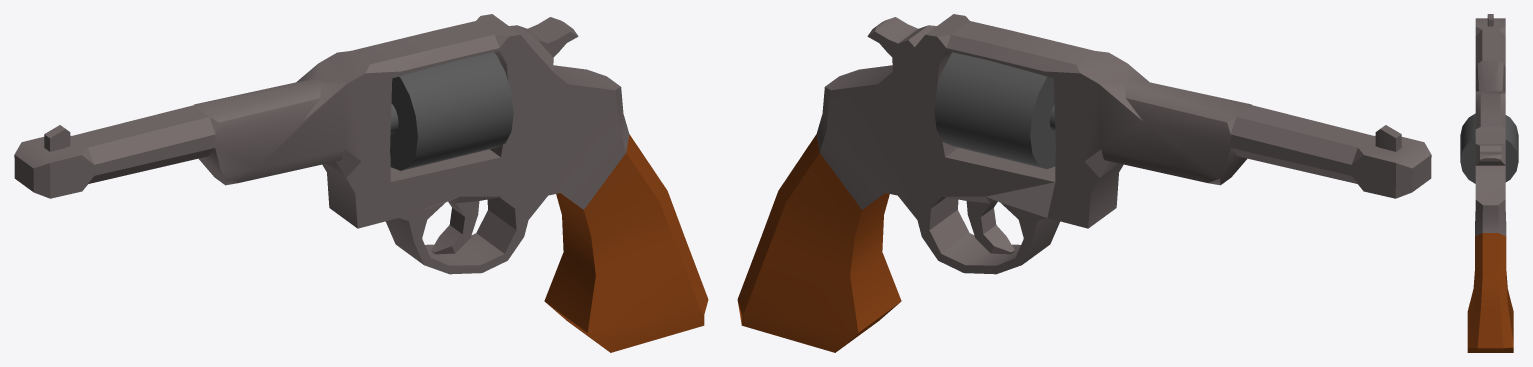
File: revolver.glb
3 views of the same model, side by side, from view 1: azimuth 30°, elevation 25°; view 2: azimuth 150°, elevation 25°; view 3: azimuth 270°, elevation 25° (orthographic). The views are drawn at different scales.
Visible parts, largest first — view 1: revolver; view 2: revolver; view 3: revolver.
Part boxes in pixels (left/top/right/bottom): revolver: left=14, top=14, right=708, bottom=352; revolver: left=737, top=14, right=1431, bottom=352; revolver: left=1460, top=14, right=1518, bottom=352.
Bounding box in the file's own units: 4.36 × 2.1 × 0.6208.
